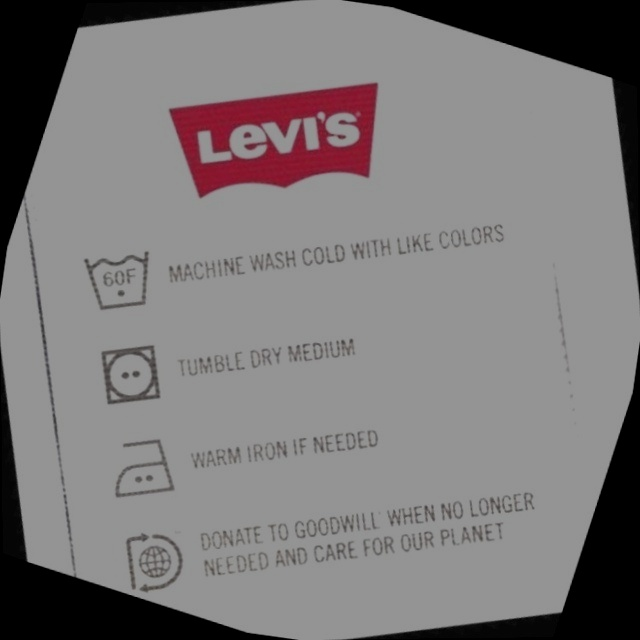30C: (70, 226, 168, 327)
iron_medium: (97, 419, 197, 518)
tumble_dry_medium: (84, 325, 183, 423)
